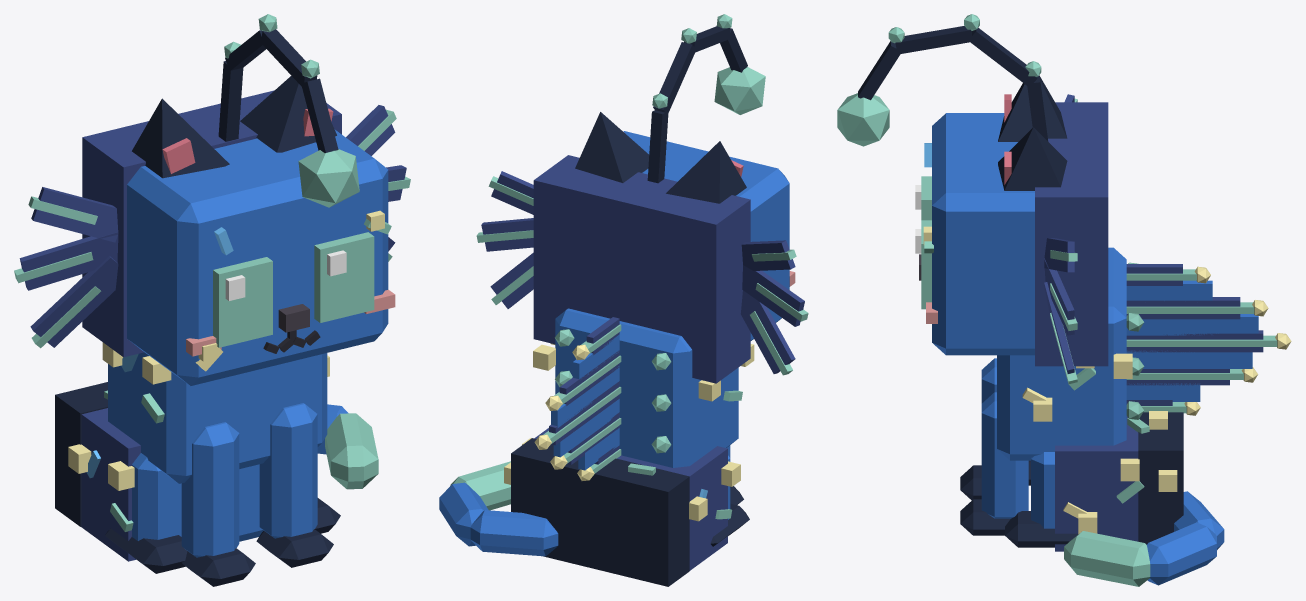
The model's file is CatCafe_Cat_Abyss_Sit.glb.
3 renders of one model, left to right at view 1: azimuth 30°, elevation 25°; view 2: azimuth 150°, elevation 25°; view 3: azimuth 270°, elevation 25°, orthographic. The views are drawn at different scales.
Parts seen in each view (by area): view 1: CatCafe_Cat_Abyss_Sit_Head, CatCafe_Cat_Abyss_Sit_Body, CatCafe_Cat_Abyss_Sit_Prop, CatCafe_Cat_Abyss_Sit_LegF1, CatCafe_Cat_Abyss_Sit_LegF2, CatCafe_Cat_Abyss_Sit_Glow, CatCafe_Cat_Abyss_Sit_Eye1, CatCafe_Cat_Abyss_Sit_Eye2, CatCafe_Cat_Abyss_Sit_EarR, CatCafe_Cat_Abyss_Sit_Tail, CatCafe_Cat_Abyss_Sit_EarL; view 2: CatCafe_Cat_Abyss_Sit_Head, CatCafe_Cat_Abyss_Sit_Body, CatCafe_Cat_Abyss_Sit_Prop, CatCafe_Cat_Abyss_Sit_Tail, CatCafe_Cat_Abyss_Sit_Prop2, CatCafe_Cat_Abyss_Sit_Glow, CatCafe_Cat_Abyss_Sit_Sail_Glow, CatCafe_Cat_Abyss_Sit_EarL, CatCafe_Cat_Abyss_Sit_EarR; view 3: CatCafe_Cat_Abyss_Sit_Head, CatCafe_Cat_Abyss_Sit_Body, CatCafe_Cat_Abyss_Sit_Prop2, CatCafe_Cat_Abyss_Sit_Tail, CatCafe_Cat_Abyss_Sit_Prop, CatCafe_Cat_Abyss_Sit_Sail_Glow, CatCafe_Cat_Abyss_Sit_LegF1, CatCafe_Cat_Abyss_Sit_Glow, CatCafe_Cat_Abyss_Sit_EarL, CatCafe_Cat_Abyss_Sit_EarR, CatCafe_Cat_Abyss_Sit_LegF2, CatCafe_Cat_Abyss_Sit_Eye1 (+1 smaller).
Boxes of the visible parts, <box> form: CatCafe_Cat_Abyss_Sit_Head: <box>82,90,395,385</box>; CatCafe_Cat_Abyss_Sit_Body: <box>55,342,340,573</box>; CatCafe_Cat_Abyss_Sit_Prop: <box>19,29,406,347</box>; CatCafe_Cat_Abyss_Sit_LegF1: <box>256,403,333,567</box>; CatCafe_Cat_Abyss_Sit_LegF2: <box>181,422,255,586</box>; CatCafe_Cat_Abyss_Sit_Glow: <box>14,14,410,348</box>; CatCafe_Cat_Abyss_Sit_Eye1: <box>314,232,374,322</box>; CatCafe_Cat_Abyss_Sit_Eye2: <box>213,257,272,347</box>; CatCafe_Cat_Abyss_Sit_EarR: <box>132,98,229,178</box>; CatCafe_Cat_Abyss_Sit_Tail: <box>317,404,378,489</box>; CatCafe_Cat_Abyss_Sit_EarL: <box>240,76,336,152</box>; CatCafe_Cat_Abyss_Sit_Head: <box>533,131,795,383</box>; CatCafe_Cat_Abyss_Sit_Body: <box>504,308,754,586</box>; CatCafe_Cat_Abyss_Sit_Prop: <box>481,26,804,373</box>; CatCafe_Cat_Abyss_Sit_Tail: <box>439,461,558,556</box>; CatCafe_Cat_Abyss_Sit_Prop2: <box>549,317,619,470</box>; CatCafe_Cat_Abyss_Sit_Glow: <box>476,14,808,375</box>; CatCafe_Cat_Abyss_Sit_Sail_Glow: <box>534,324,671,480</box>; CatCafe_Cat_Abyss_Sit_EarL: <box>575,112,649,182</box>; CatCafe_Cat_Abyss_Sit_EarR: <box>666,141,746,203</box>; CatCafe_Cat_Abyss_Sit_Head: <box>919,102,1108,366</box>; CatCafe_Cat_Abyss_Sit_Body: <box>997,247,1183,551</box>; CatCafe_Cat_Abyss_Sit_Prop2: <box>1126,264,1263,405</box>; CatCafe_Cat_Abyss_Sit_Tail: <box>1064,491,1224,586</box>; CatCafe_Cat_Abyss_Sit_Prop: <box>858,26,1074,373</box>; CatCafe_Cat_Abyss_Sit_Sail_Glow: <box>1126,262,1291,419</box>; CatCafe_Cat_Abyss_Sit_LegF1: <box>960,392,1028,535</box>; CatCafe_Cat_Abyss_Sit_Glow: <box>837,14,1077,384</box>; CatCafe_Cat_Abyss_Sit_EarL: <box>998,127,1067,190</box>; CatCafe_Cat_Abyss_Sit_EarR: <box>998,75,1067,141</box>; CatCafe_Cat_Abyss_Sit_LegF2: <box>960,358,996,500</box>; CatCafe_Cat_Abyss_Sit_Eye1: <box>915,220,931,309</box>.
Size of the model in its own units: 1.63 by 2.21 by 1.83.
1 material, 1 textured.
